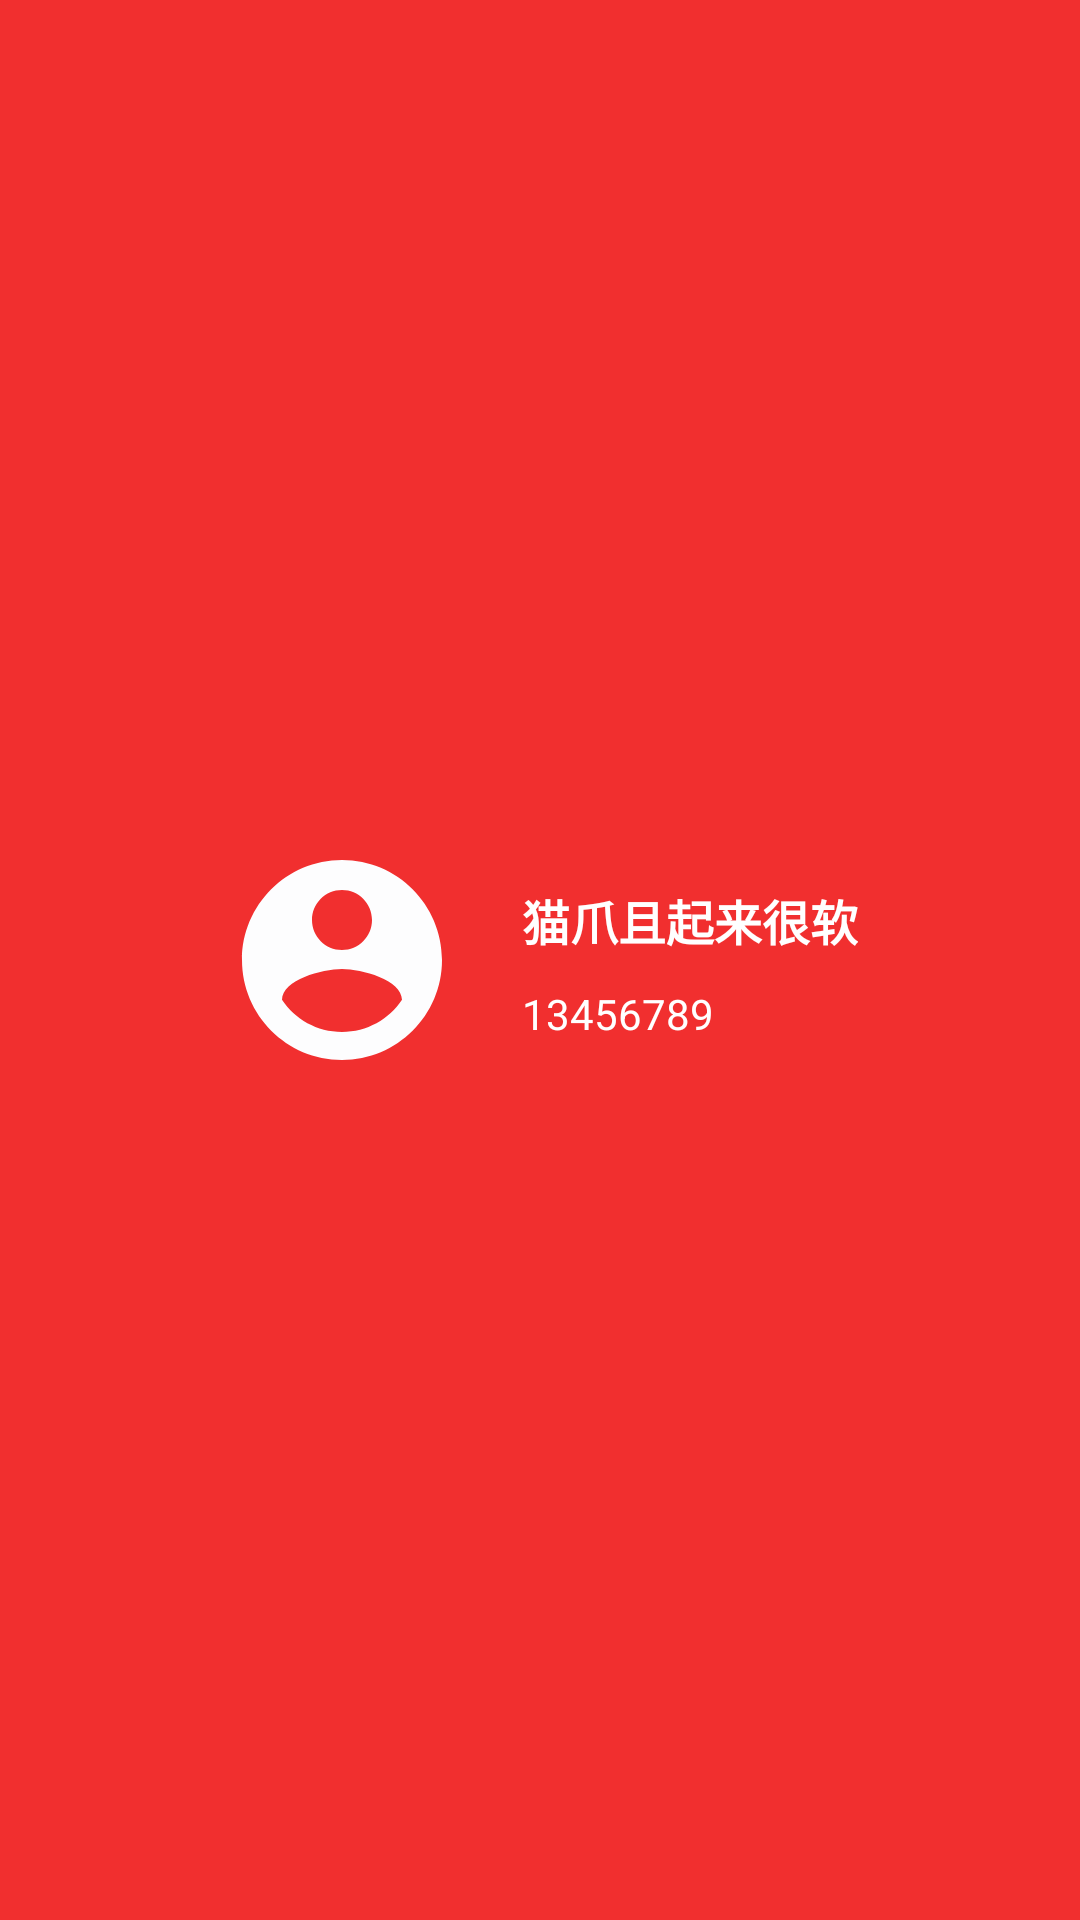

Screen size 1080*1920. Icon name, then its box in pixels as bbox=(x1, y1, x2, y2):
account circle: bbox=(242, 860, 442, 1060)
